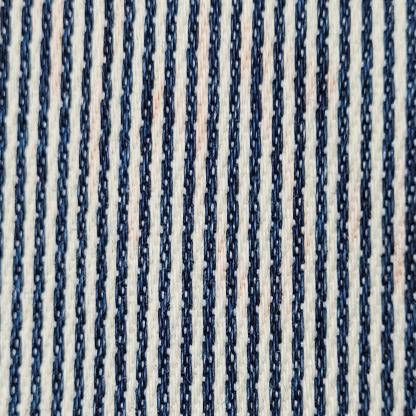spot: (31, 20, 382, 193)
